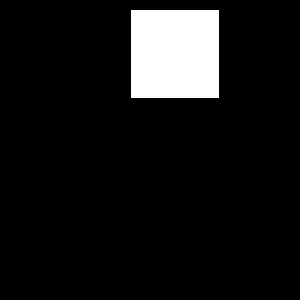circle: (131, 10, 219, 98)
